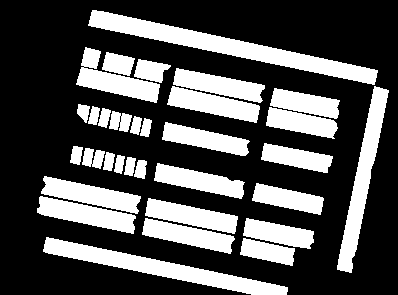parkingspot: (88, 10, 377, 84), (43, 237, 287, 295), (337, 86, 388, 272), (41, 176, 140, 213), (37, 196, 135, 233), (167, 86, 259, 122), (145, 198, 237, 233), (142, 218, 234, 253), (154, 163, 244, 198), (173, 68, 264, 102), (76, 67, 159, 102), (162, 122, 249, 155), (266, 107, 337, 138), (252, 183, 323, 214), (243, 218, 313, 248), (270, 88, 339, 118), (261, 143, 332, 172), (240, 238, 294, 265), (134, 59, 170, 82), (102, 52, 134, 75), (81, 47, 100, 68), (98, 108, 110, 127), (77, 104, 89, 122), (119, 113, 131, 131), (70, 146, 82, 164), (92, 150, 104, 168), (134, 160, 146, 178), (88, 106, 99, 124), (109, 111, 120, 129), (130, 116, 141, 134), (140, 118, 151, 136), (82, 148, 93, 166), (103, 152, 114, 170), (124, 157, 135, 175), (114, 155, 124, 173)
